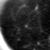node: (33, 3, 40, 12), (36, 40, 41, 46), (24, 23, 29, 28)
